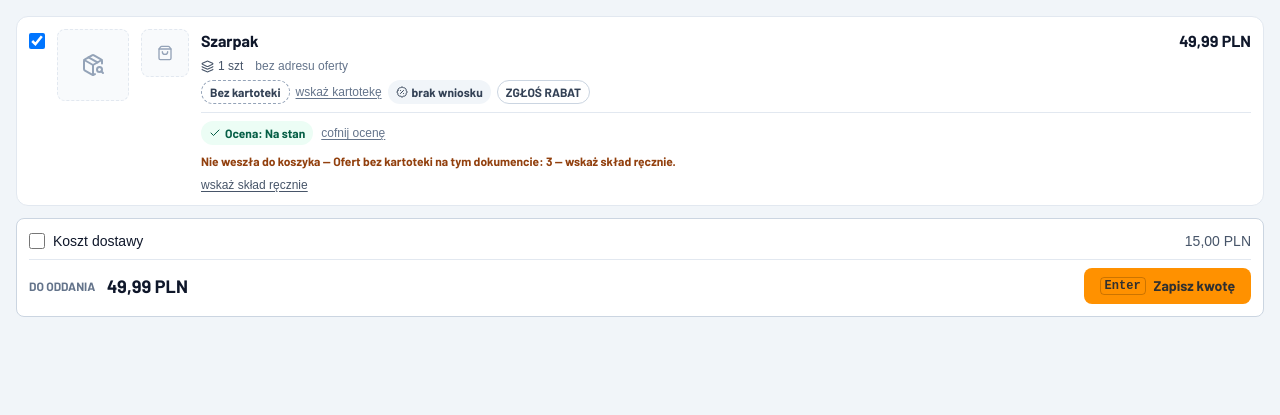
Scenario: Ręczne wskazanie składu (0.336.0) › bez dokumentu sprzedaży mówi, czego brakuje, zamiast pokazywać pustą listę
Click the button "wskaż skład ręcznie". click: {"x": 254, "y": 185}
box: [201,177,308,193]
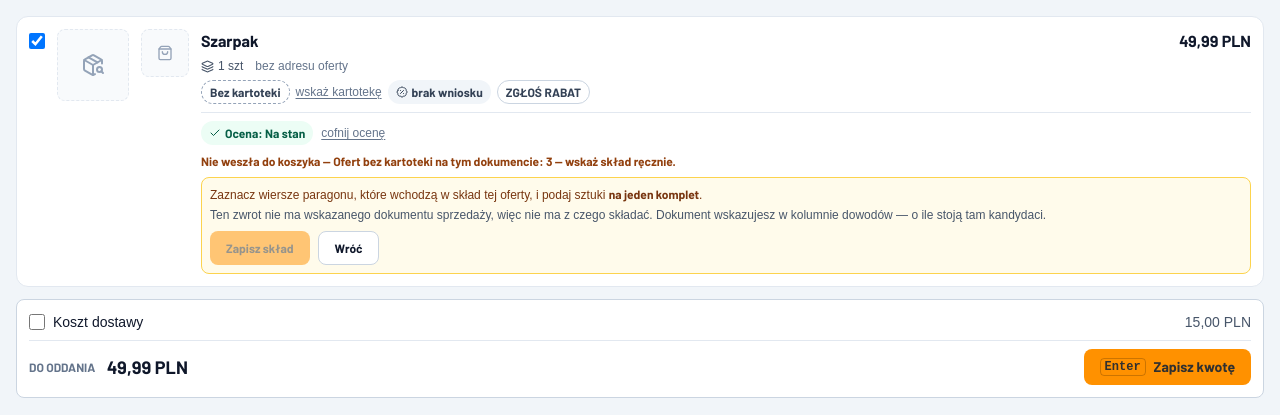
Expected: the text "nie ma wskazanego dokumentu sprzedaży" is shown, [210,208,1046,222]
